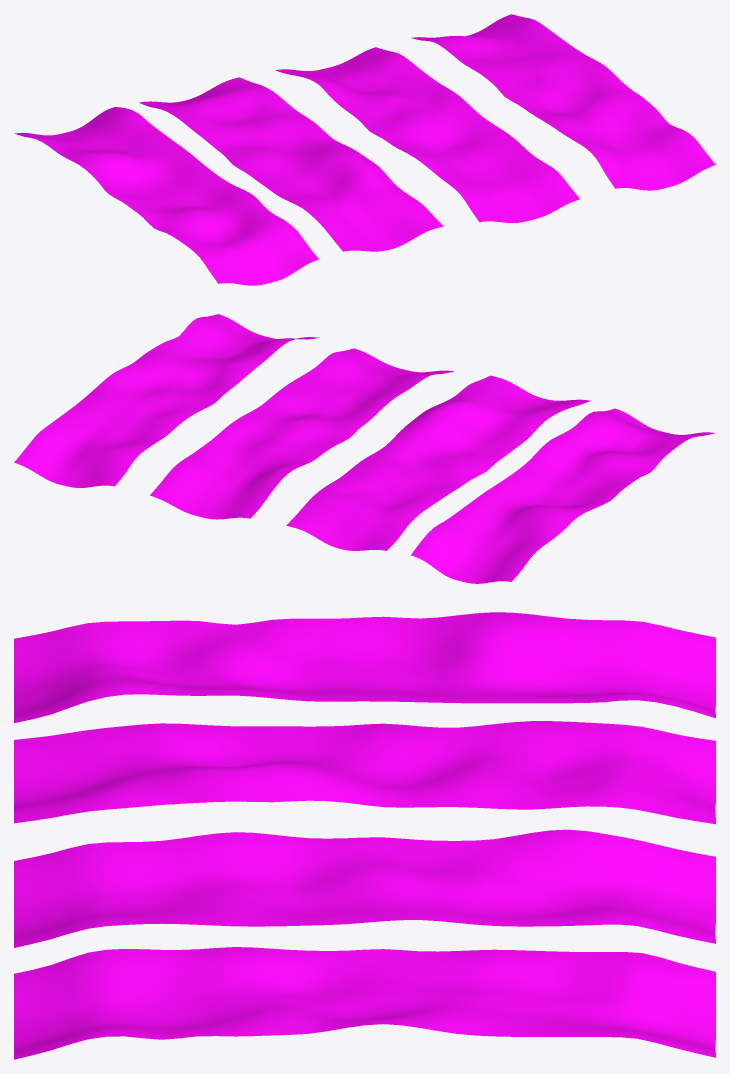
The model's file is terres.fbx.
The picture shows the model from 3 angles, top to bottom: view 1: azimuth 30°, elevation 25°; view 2: azimuth 150°, elevation 25°; view 3: azimuth 270°, elevation 25°; orthographic projection. The views are drawn at different scales.
Parts seen in each view (by area): view 1: Terre5, Terre2, Terre4, Terre3; view 2: Terre2, Terre5, Terre4, Terre3; view 3: Terre3, Terre4, Terre2, Terre5.
Part boxes in pixels (bbox=[...]): Terre5: bbox=[14, 107, 318, 285]; Terre2: bbox=[139, 77, 443, 251]; Terre4: bbox=[411, 14, 715, 190]; Terre3: bbox=[275, 47, 579, 222]; Terre2: bbox=[286, 375, 590, 550]; Terre5: bbox=[411, 408, 715, 583]; Terre4: bbox=[14, 314, 318, 487]; Terre3: bbox=[150, 348, 454, 519]; Terre3: bbox=[14, 829, 715, 947]; Terre4: bbox=[14, 947, 715, 1059]; Terre2: bbox=[14, 721, 715, 824]; Terre5: bbox=[14, 612, 715, 722].
Bounding box in the file's own units: 86.81 × 6.11 × 61.49.
